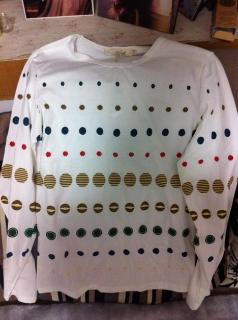long sleeve top: (0, 33, 238, 311)
